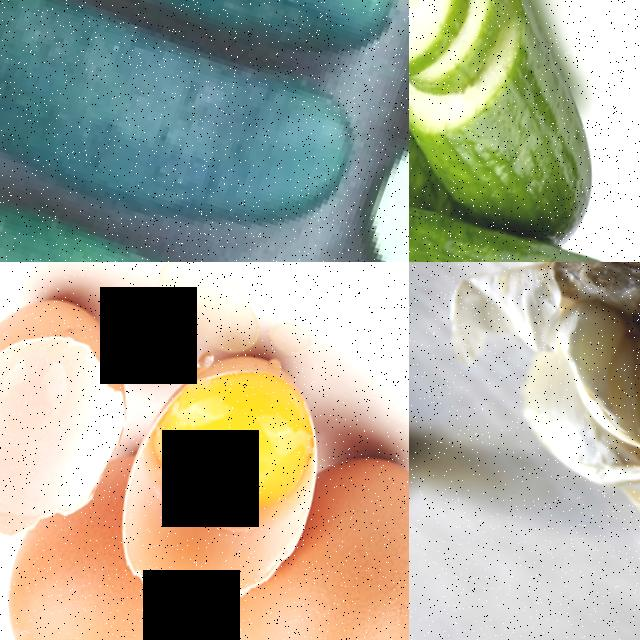cucumber: (0, 0, 384, 262), (409, 5, 640, 262), (0, 0, 409, 121), (0, 123, 304, 262), (409, 96, 640, 262), (409, 0, 503, 102)
egg_: (119, 334, 339, 559), (218, 430, 409, 640), (0, 487, 157, 640)
garlic: (455, 262, 640, 611)
